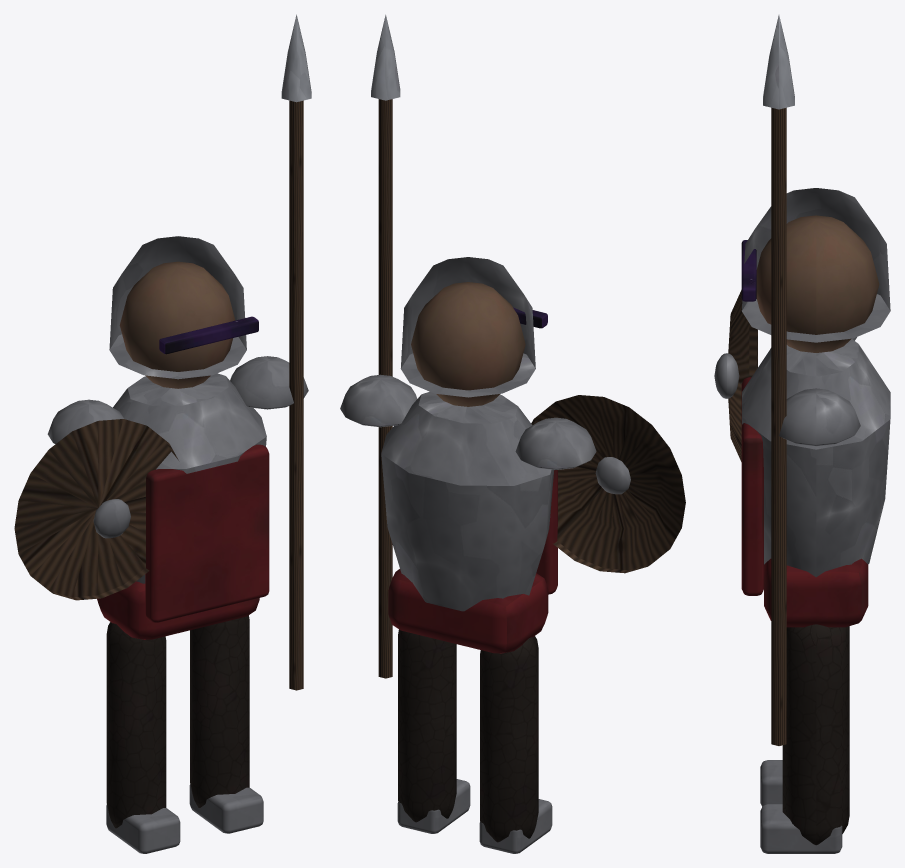
Rendered from soldier.glb.
3 renders of one model, left to right at view 1: azimuth 30°, elevation 25°; view 2: azimuth 150°, elevation 25°; view 3: azimuth 270°, elevation 25°, orthographic. The views are drawn at different scales.
Parts seen in each view (by area): view 1: Turret, Base; view 2: Turret, Base; view 3: Turret, Base.
Part boxes in pixels (<box>): Turret: <box>14,14,311,690</box>; Base: <box>97,581,263,853</box>; Turret: <box>340,14,685,678</box>; Base: <box>388,569,552,853</box>; Turret: <box>714,15,890,745</box>; Base: <box>760,558,868,853</box>.
Bounding box in the file's own units: 0.53 × 1.28 × 0.2368.
Materials: 7 (7 with a texture image).
